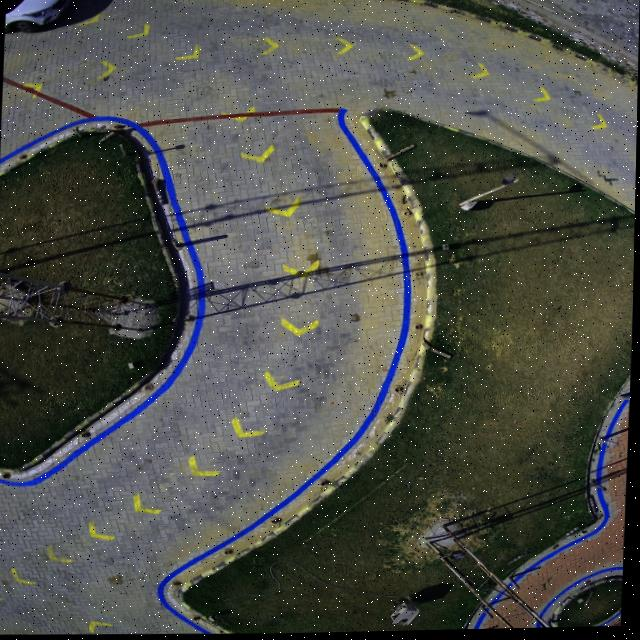car: (5, 0, 72, 27)
